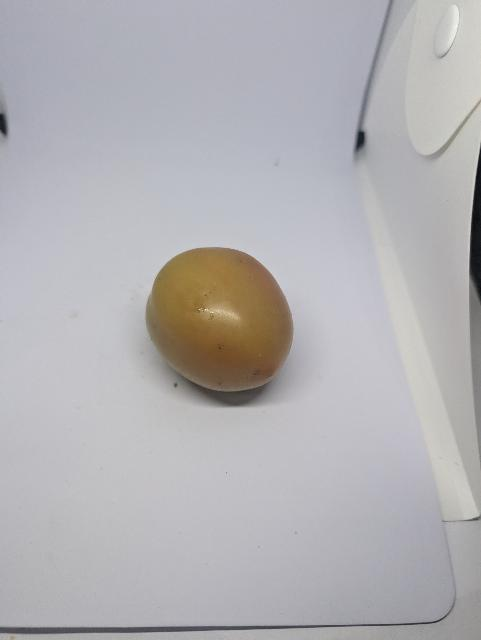turning: (141, 241, 299, 400)
